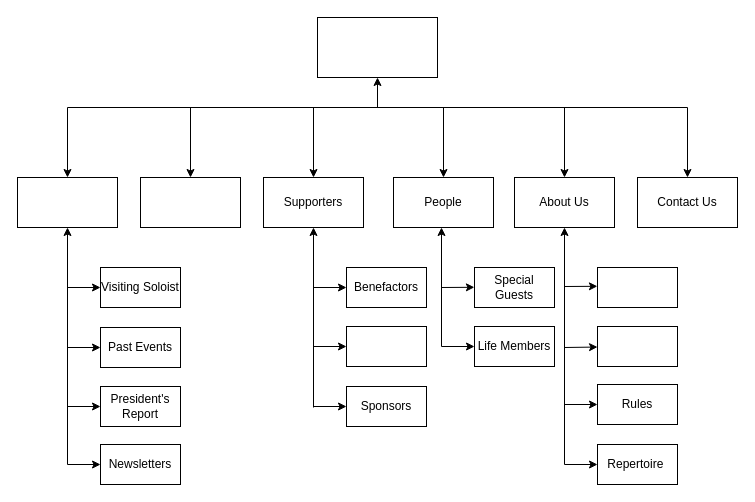
Image size: 755x502. Some labels were removed from this diagram. Here are the shapes that lost their labels. From the top down, the centre of each, then its label:
At (377,47): "Home".
At (67,202): "News".
At (190,202): "Gallery".
At (637,287): "History".
At (386,346): "Donations".
At (637,346): "Committee".
